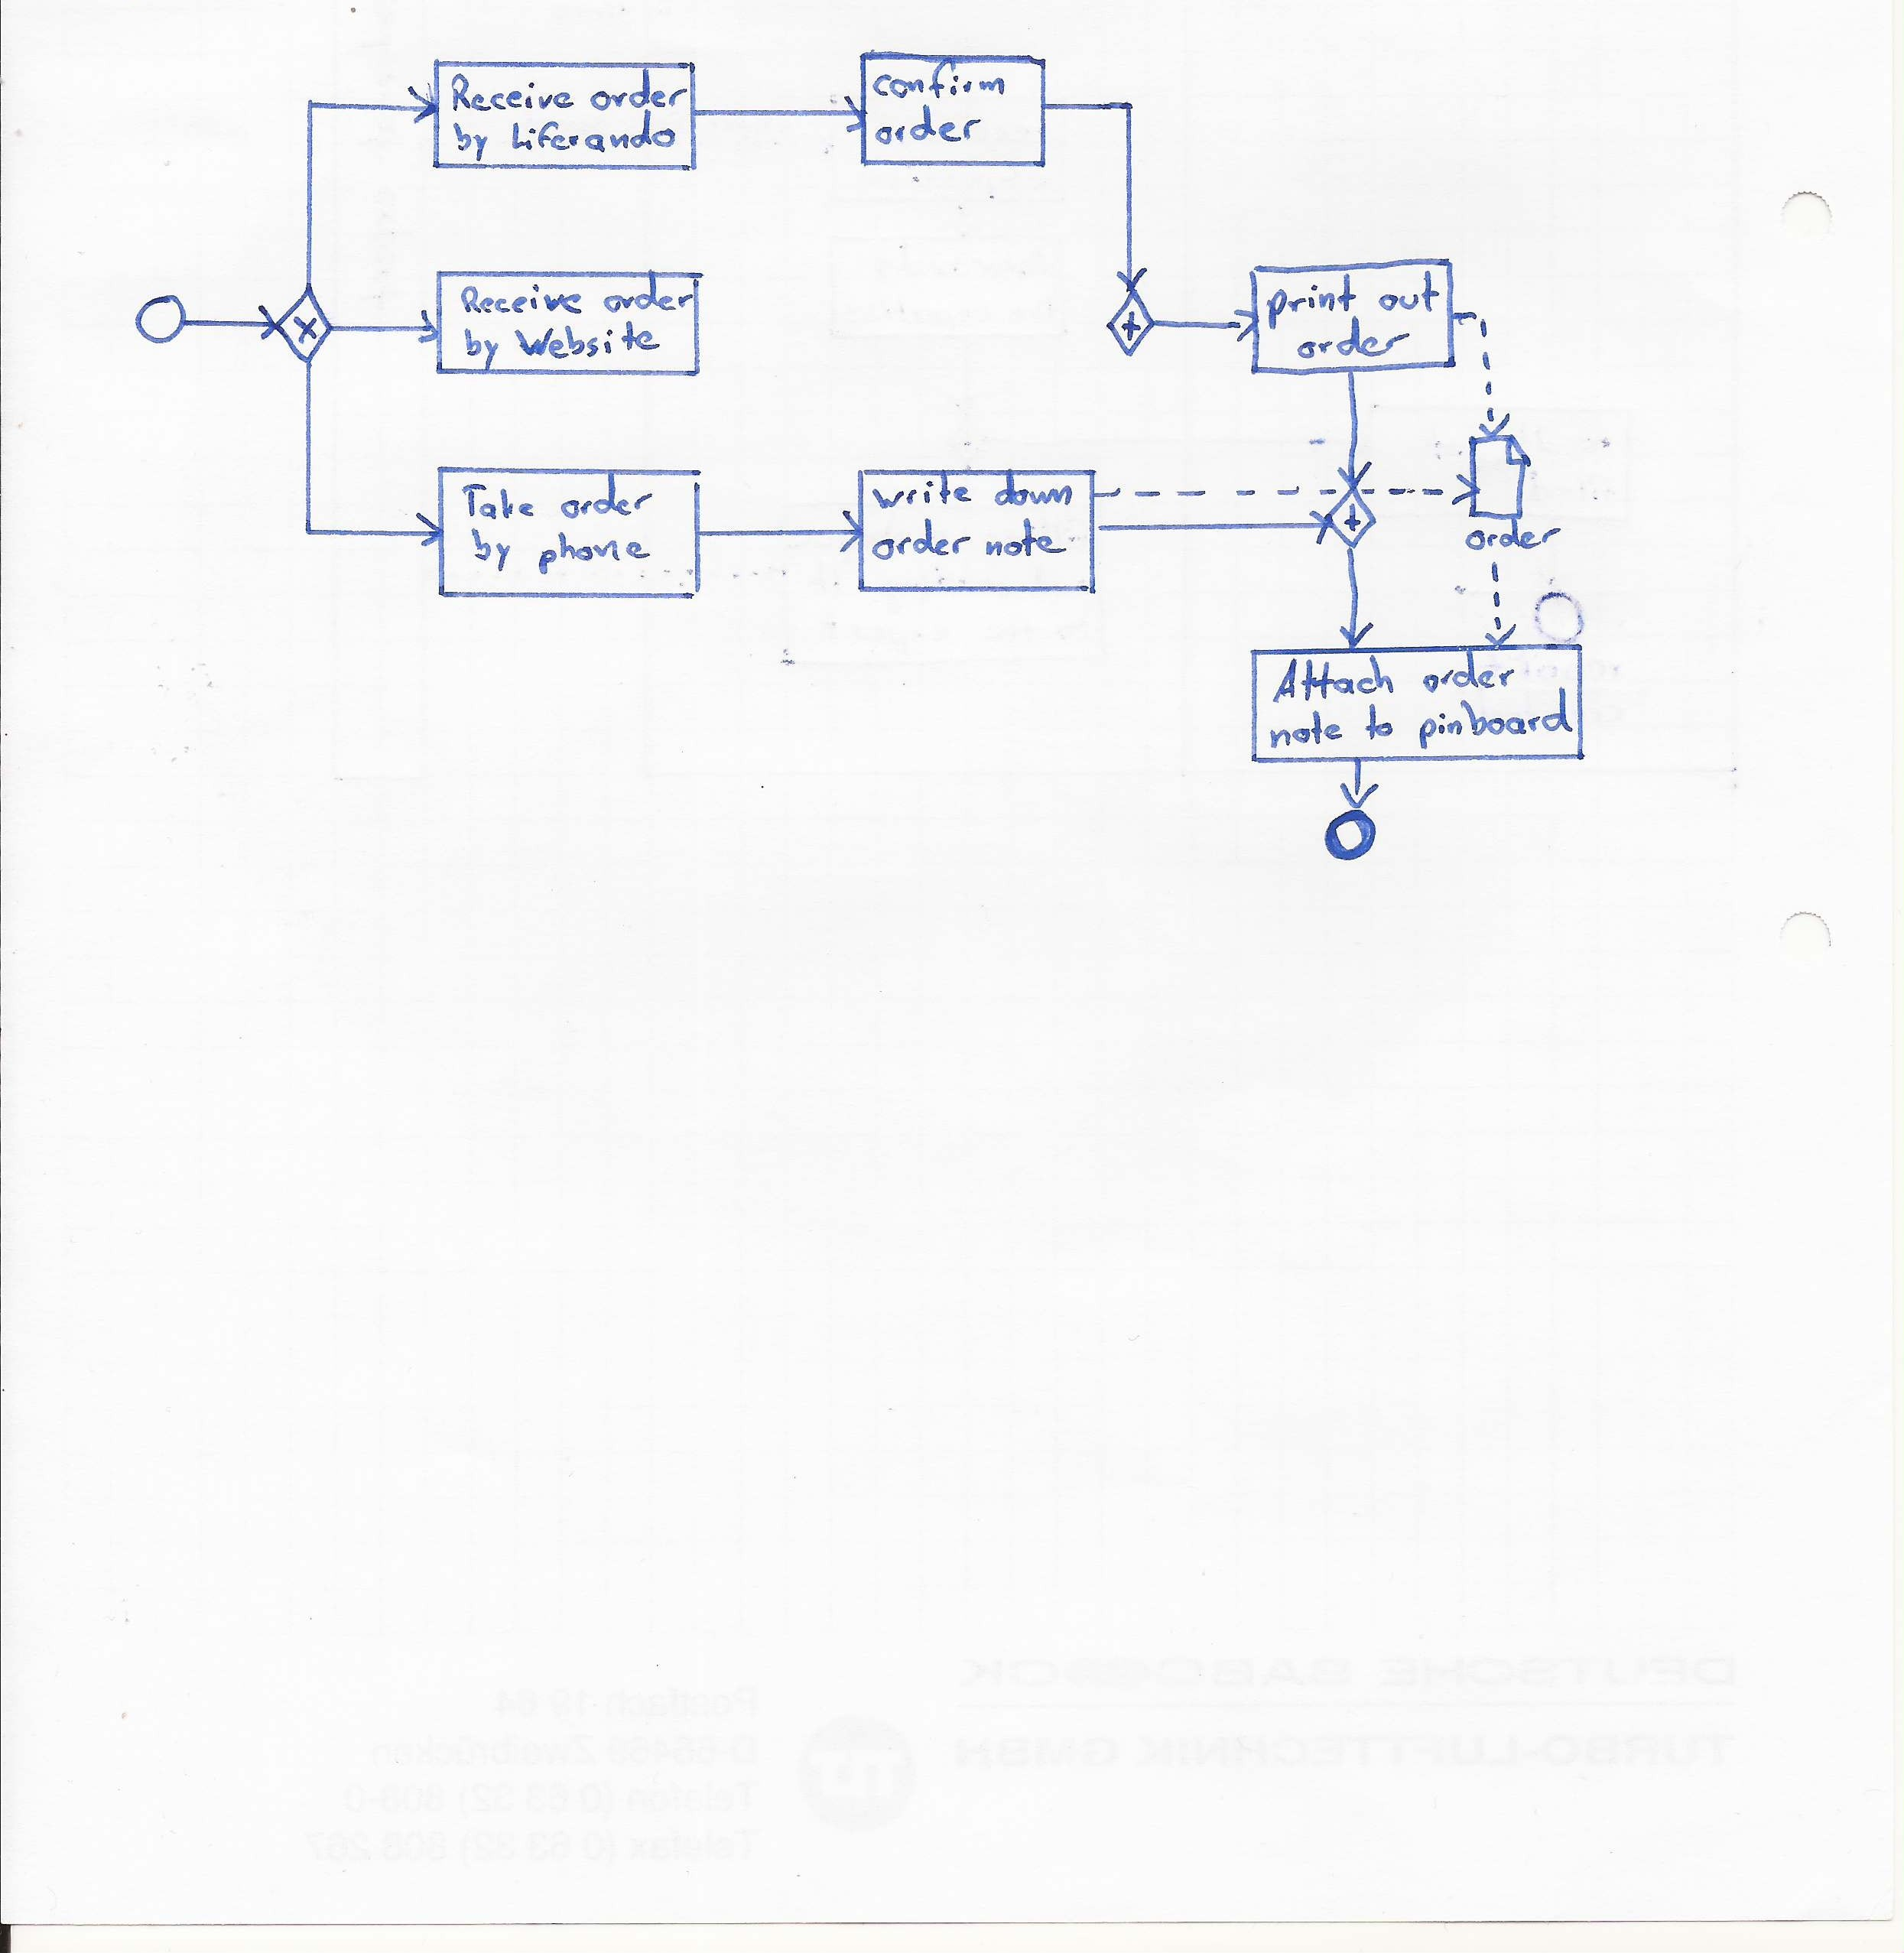Attach: (1269, 657, 1398, 706)
Liferando: (507, 112, 678, 155)
Receive: (450, 73, 584, 117), (459, 281, 588, 317)
Take: (460, 481, 539, 521)
Website: (513, 317, 661, 361)
by: (467, 527, 516, 574), (450, 120, 495, 162), (459, 326, 504, 366)
confirm: (872, 59, 1010, 99)
down: (992, 473, 1078, 509)
note: (983, 520, 1069, 563), (1268, 710, 1346, 752)
order: (1294, 317, 1412, 361), (874, 103, 983, 145), (872, 518, 973, 563), (558, 476, 656, 521), (1421, 652, 1522, 694), (602, 276, 697, 316), (589, 73, 687, 112), (1465, 520, 1564, 553)
out: (1377, 269, 1445, 314)
phone: (535, 528, 657, 574)
pinboard: (1414, 687, 1576, 750)
print: (1264, 274, 1362, 328)
to: (1363, 701, 1395, 743)
write: (867, 474, 973, 511)
